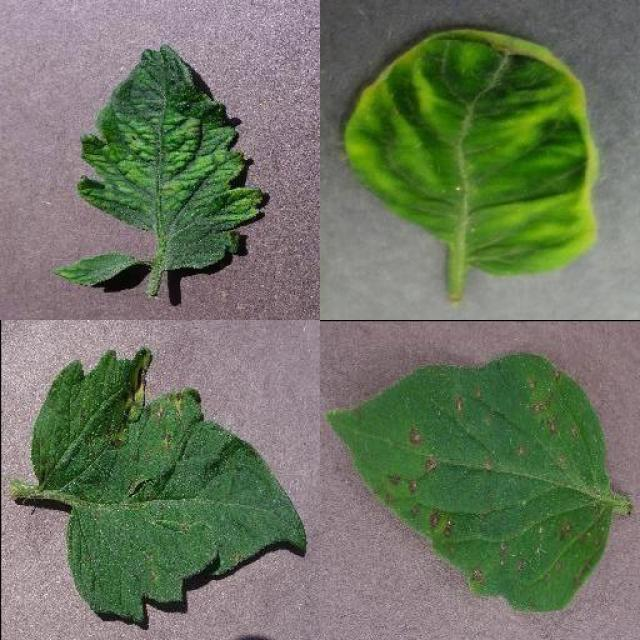Septoria: (32, 350, 308, 622), (329, 349, 611, 611)
